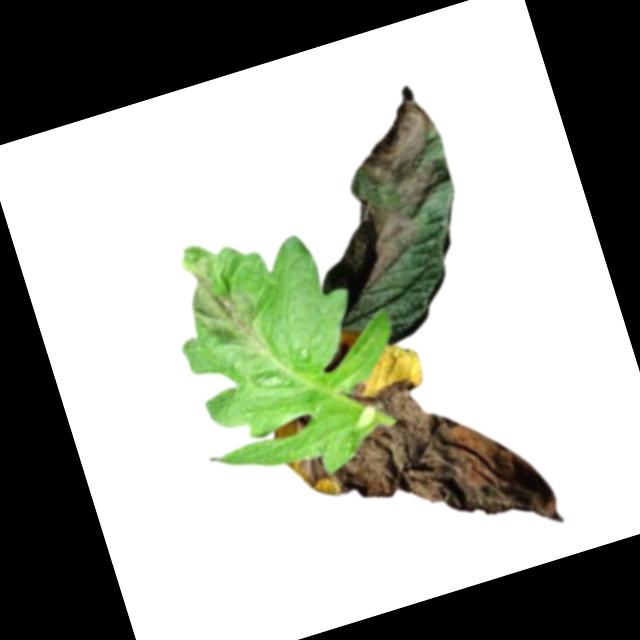Late_blight: (282, 340, 562, 587), (343, 77, 455, 214), (175, 245, 266, 366), (352, 196, 429, 288)
